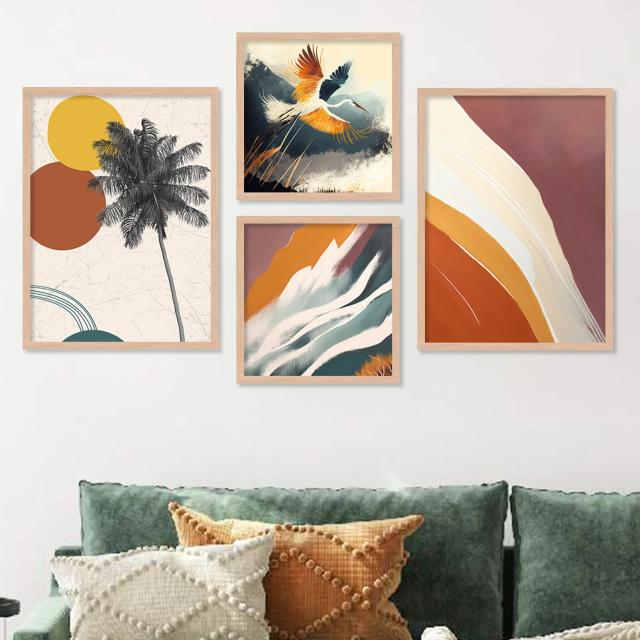painting: (416, 89, 615, 349), (23, 86, 218, 349), (235, 31, 402, 199), (237, 215, 401, 384)
